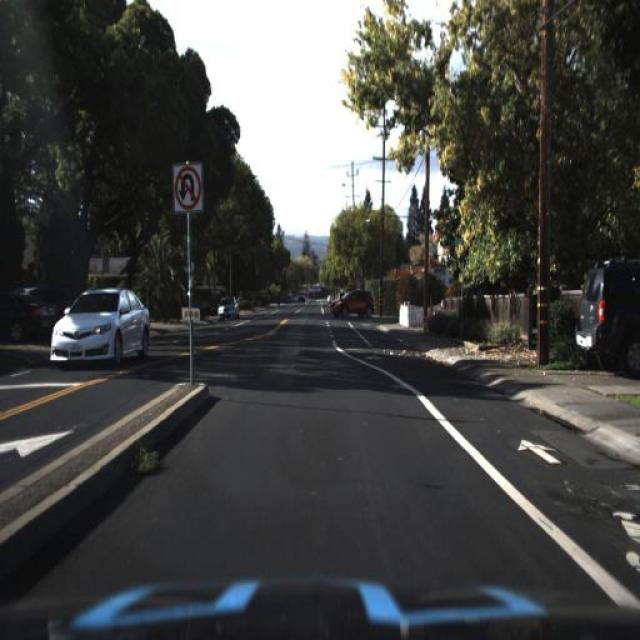car: (40, 282, 158, 374), (574, 257, 640, 379), (332, 288, 378, 322), (215, 293, 240, 319)
